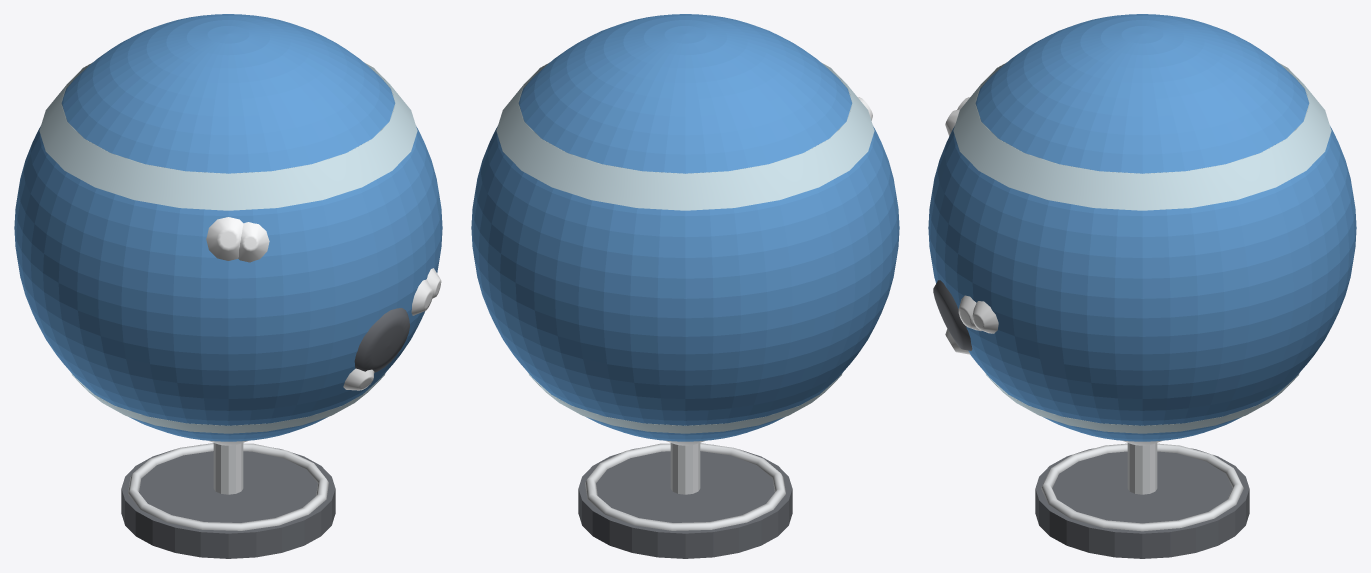
The model's file is solar-system-and-astronauts-neptune-model-ca6e8745__39241.glb.
The picture shows the model from 3 angles, left to right: view 1: azimuth 30°, elevation 25°; view 2: azimuth 150°, elevation 25°; view 3: azimuth 270°, elevation 25°; orthographic projection.
Parts seen in each view (by area): view 1: neptune-model; view 2: neptune-model; view 3: neptune-model.
Boxes of the visible parts, x1=… form: neptune-model: x1=14, y1=14, x2=442, y2=558; neptune-model: x1=471, y1=14, x2=899, y2=558; neptune-model: x1=928, y1=14, x2=1356, y2=558.
Bounding box in the file's own units: 0.46 × 0.5689 × 0.46.
